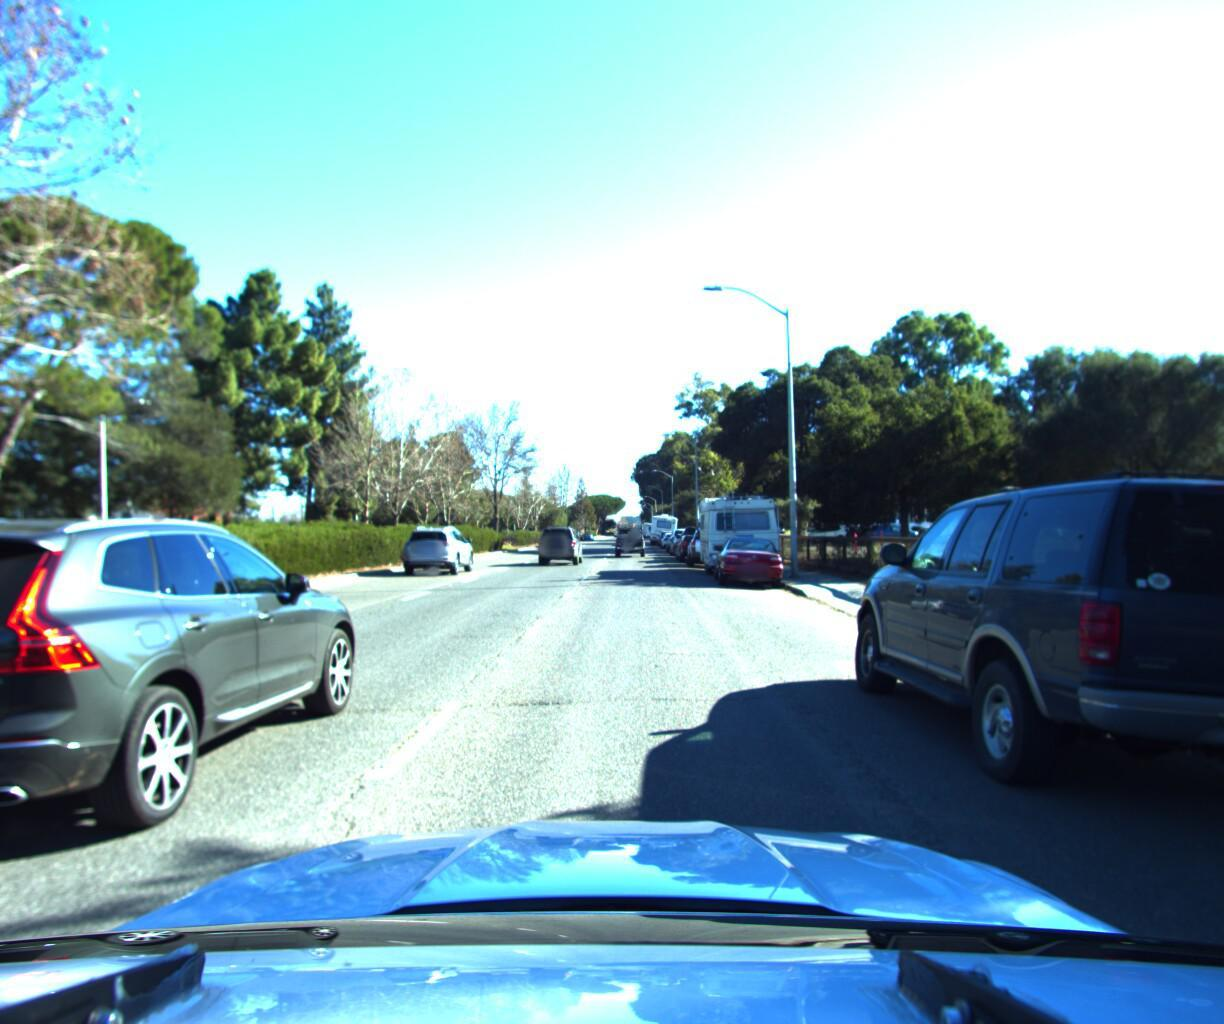car: (835, 455, 1224, 862), (0, 506, 378, 902), (713, 531, 786, 588), (401, 525, 475, 577), (532, 522, 584, 565), (676, 522, 720, 560), (610, 514, 649, 553), (687, 523, 729, 559), (658, 528, 682, 545)
other_vehicle: (694, 486, 786, 575), (647, 510, 676, 541)
